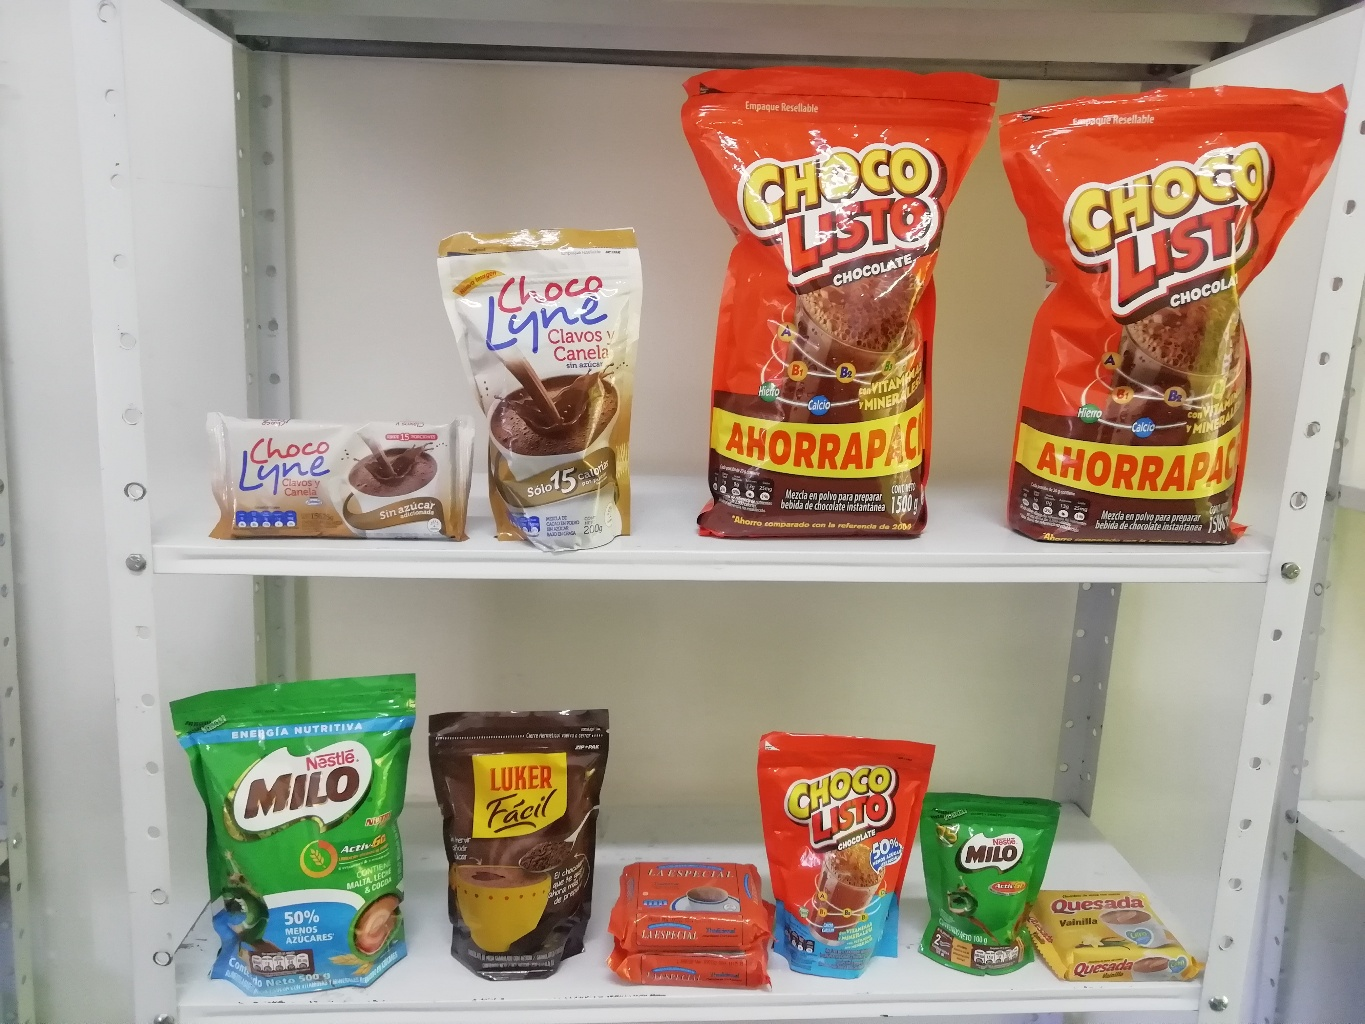COL0170104DYP20000: (758, 723, 938, 980)
COL0170203DYP10000: (914, 790, 1066, 975)
